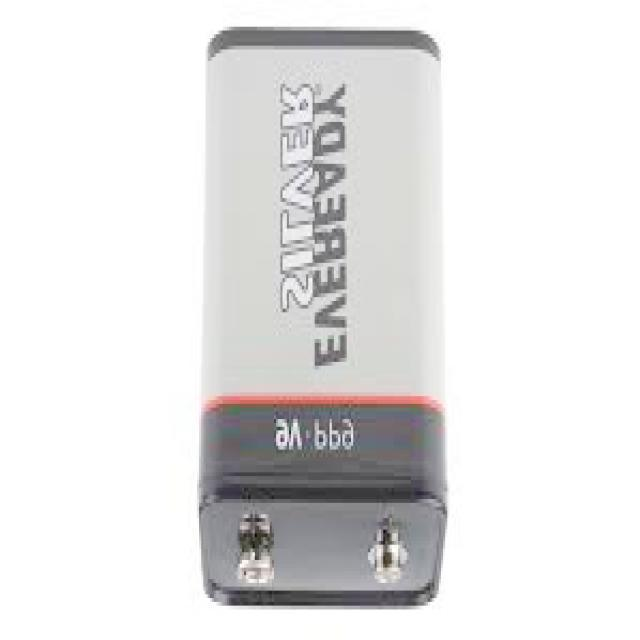battery: (198, 28, 448, 609)
